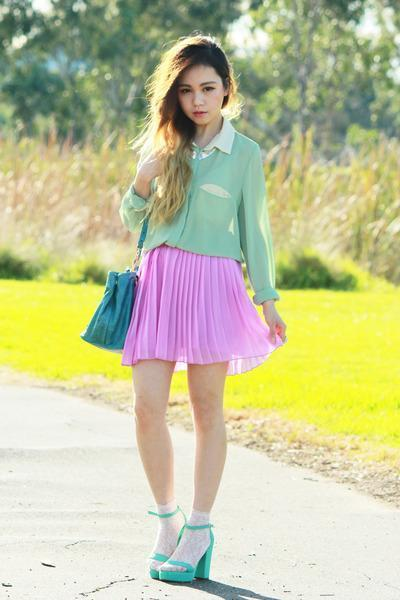bag: (84, 270, 159, 349)
shirt: (112, 121, 284, 307)
shoe: (150, 540, 213, 585)
skirt: (108, 247, 274, 375)
